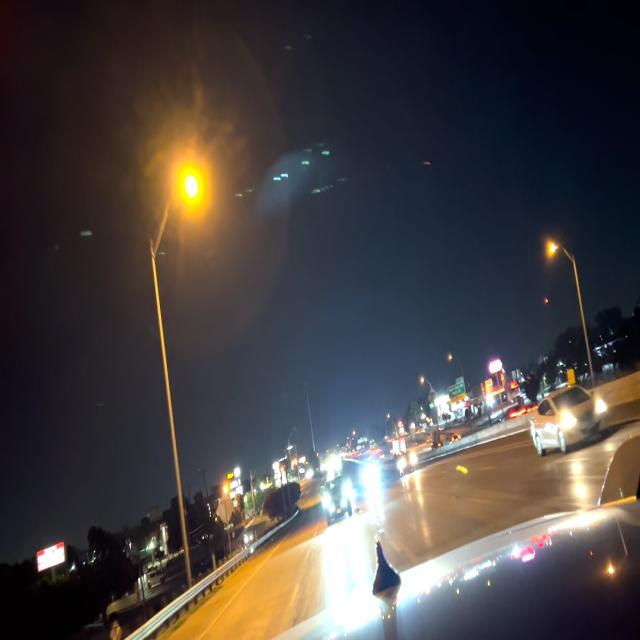back-of-sign: (217, 494, 234, 524)
